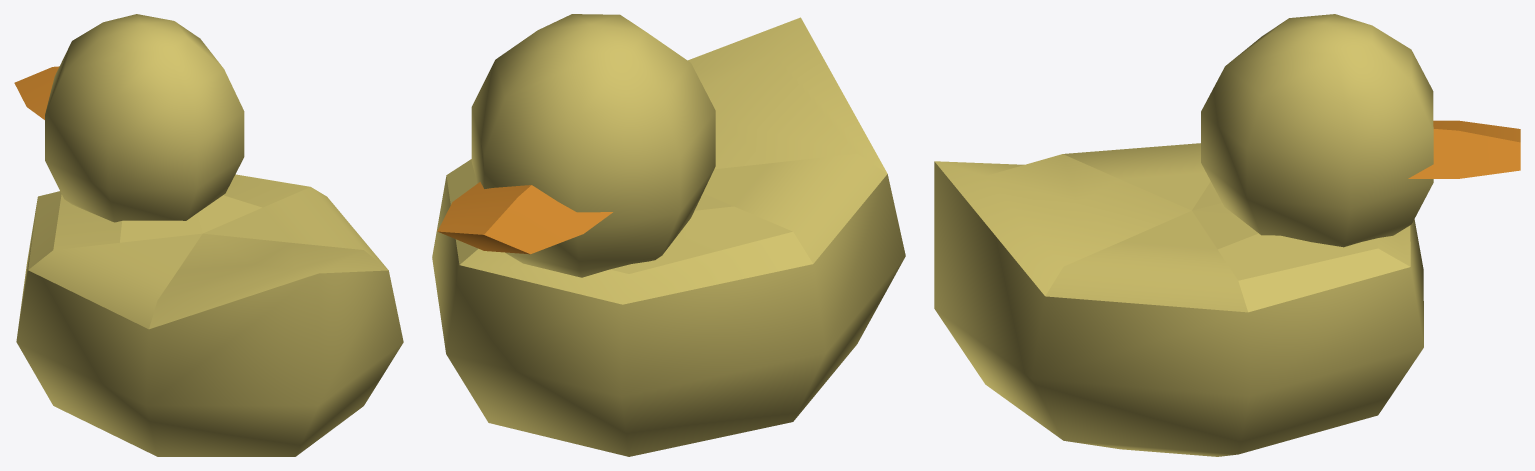
The model's file is Duck.fbx.
3 renders of one model, left to right at view 1: azimuth 30°, elevation 25°; view 2: azimuth 150°, elevation 25°; view 3: azimuth 270°, elevation 25°, orthographic. The views are drawn at different scales.
Parts seen in each view (by area): view 1: pSphere3; view 2: pSphere3; view 3: pSphere3.
Part boxes in pixels (x1,y1,x2,y2): pSphere3: [14, 14, 403, 456]; pSphere3: [432, 14, 905, 456]; pSphere3: [934, 14, 1520, 456].
Size of the model in its own units: 1.57 by 1.64 by 2.22.
